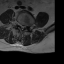CCS_normal: (21, 24, 23, 31)
LFS_severe_stenosis: (25, 24, 27, 28)
LLS_stenosis: (23, 24, 25, 30)
RFS_normal: (18, 20, 19, 26)
RLS_normal: (19, 23, 21, 29)
